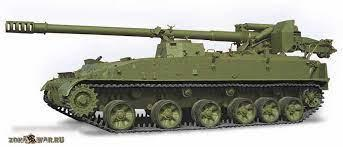sau: (3, 17, 339, 136)
